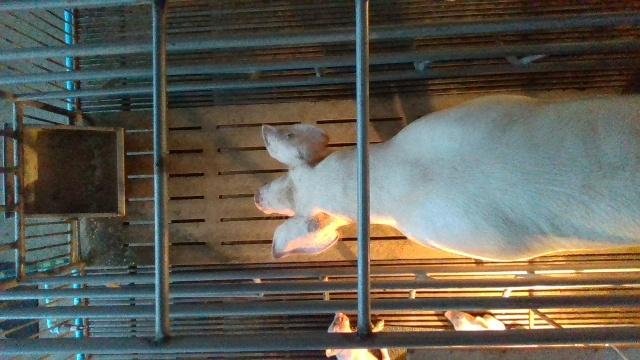piglet: (325, 313, 390, 360), (445, 310, 506, 331)
sow-stand: (255, 92, 640, 259)
